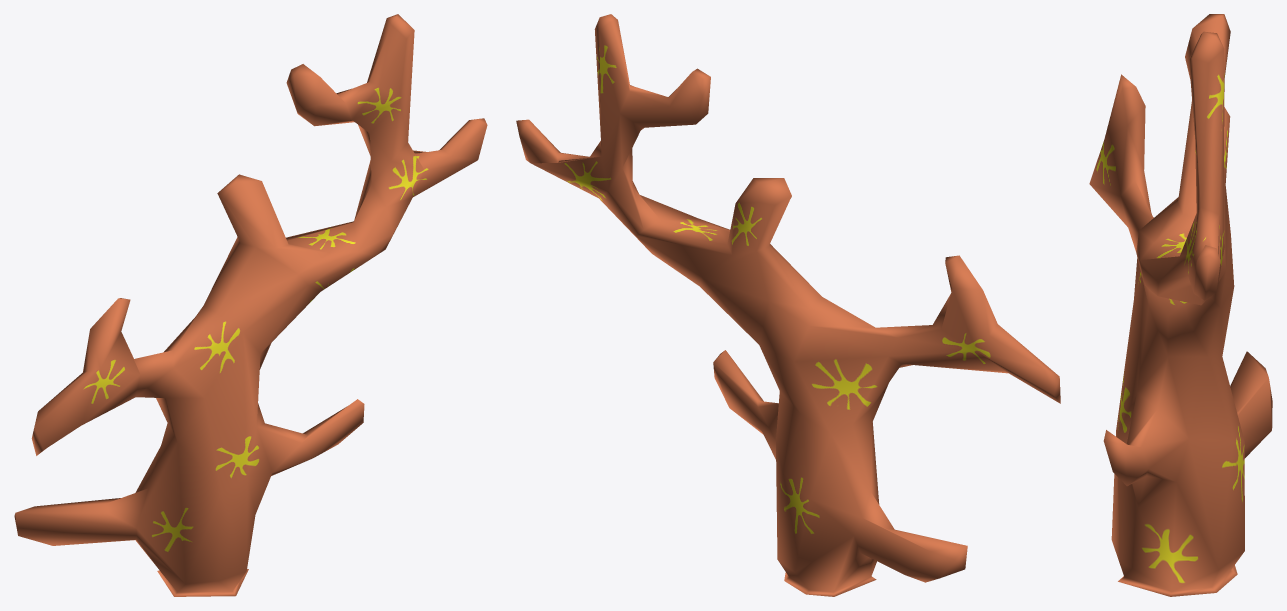
Rendered from object_4.001.001_lev3.glb.
The picture shows the model from 3 angles, left to right: view 1: azimuth 30°, elevation 25°; view 2: azimuth 150°, elevation 25°; view 3: azimuth 270°, elevation 25°; orthographic projection. The views are drawn at different scales.
Visible parts, largest first — view 1: object_4.001.001_lev3; view 2: object_4.001.001_lev3; view 3: object_4.001.001_lev3.
Part boxes in pixels (box(x1,y1,x2,y2)): object_4.001.001_lev3: box(14, 14, 487, 596); object_4.001.001_lev3: box(516, 14, 1060, 596); object_4.001.001_lev3: box(1089, 14, 1272, 596).
Size of the model in its own units: 4.6 by 4.55 by 1.12.
1 material, 1 textured.
